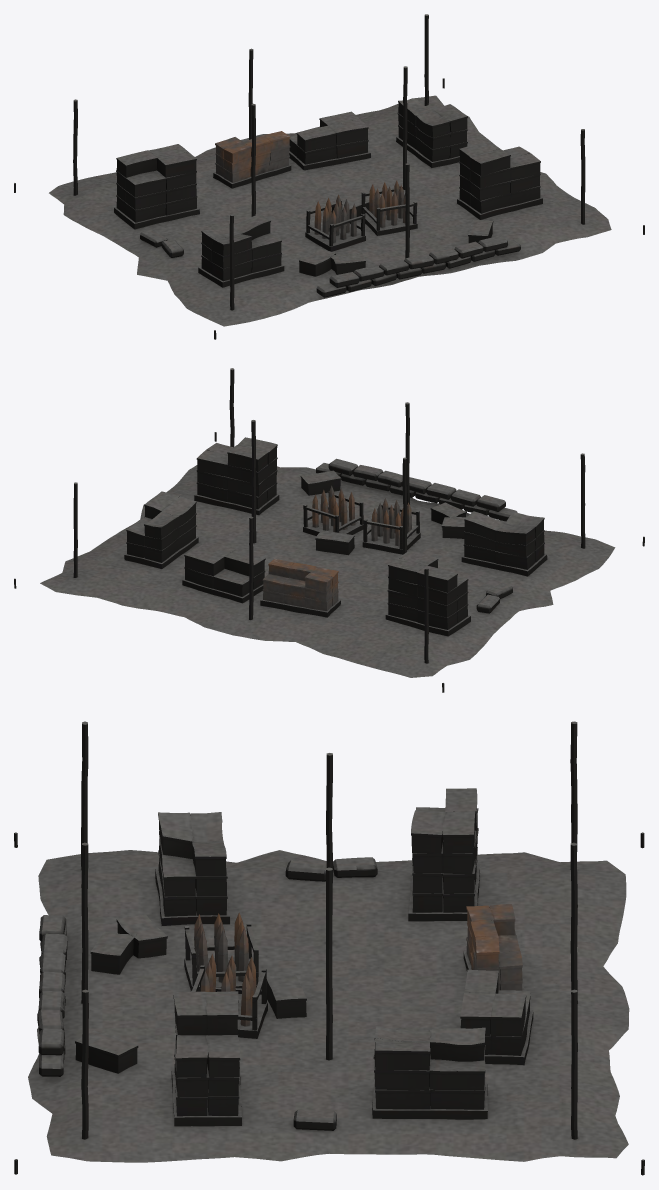
Rendered from Wreck_Depot.fbx.
3 renders of one model, top to bottom at view 1: azimuth 30°, elevation 25°; view 2: azimuth 150°, elevation 25°; view 3: azimuth 270°, elevation 25°, orthographic. The views are drawn at different scales.
Parts seen in each view (by area): view 1: Wreck_Depot_Mesh; view 2: Wreck_Depot_Mesh; view 3: Wreck_Depot_Mesh.
Part boxes in pixels (x1,y1,x2,y2): Wreck_Depot_Mesh: [14, 14, 644, 339]; Wreck_Depot_Mesh: [14, 368, 644, 692]; Wreck_Depot_Mesh: [14, 721, 644, 1175].
Size of the model in its own units: 10.81 by 3.07 by 8.77.
